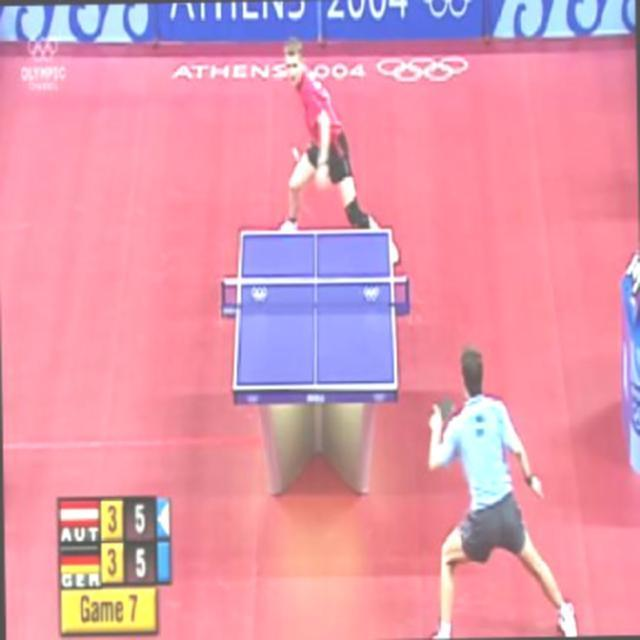non-fight: (426, 341, 556, 637), (274, 35, 378, 228)
